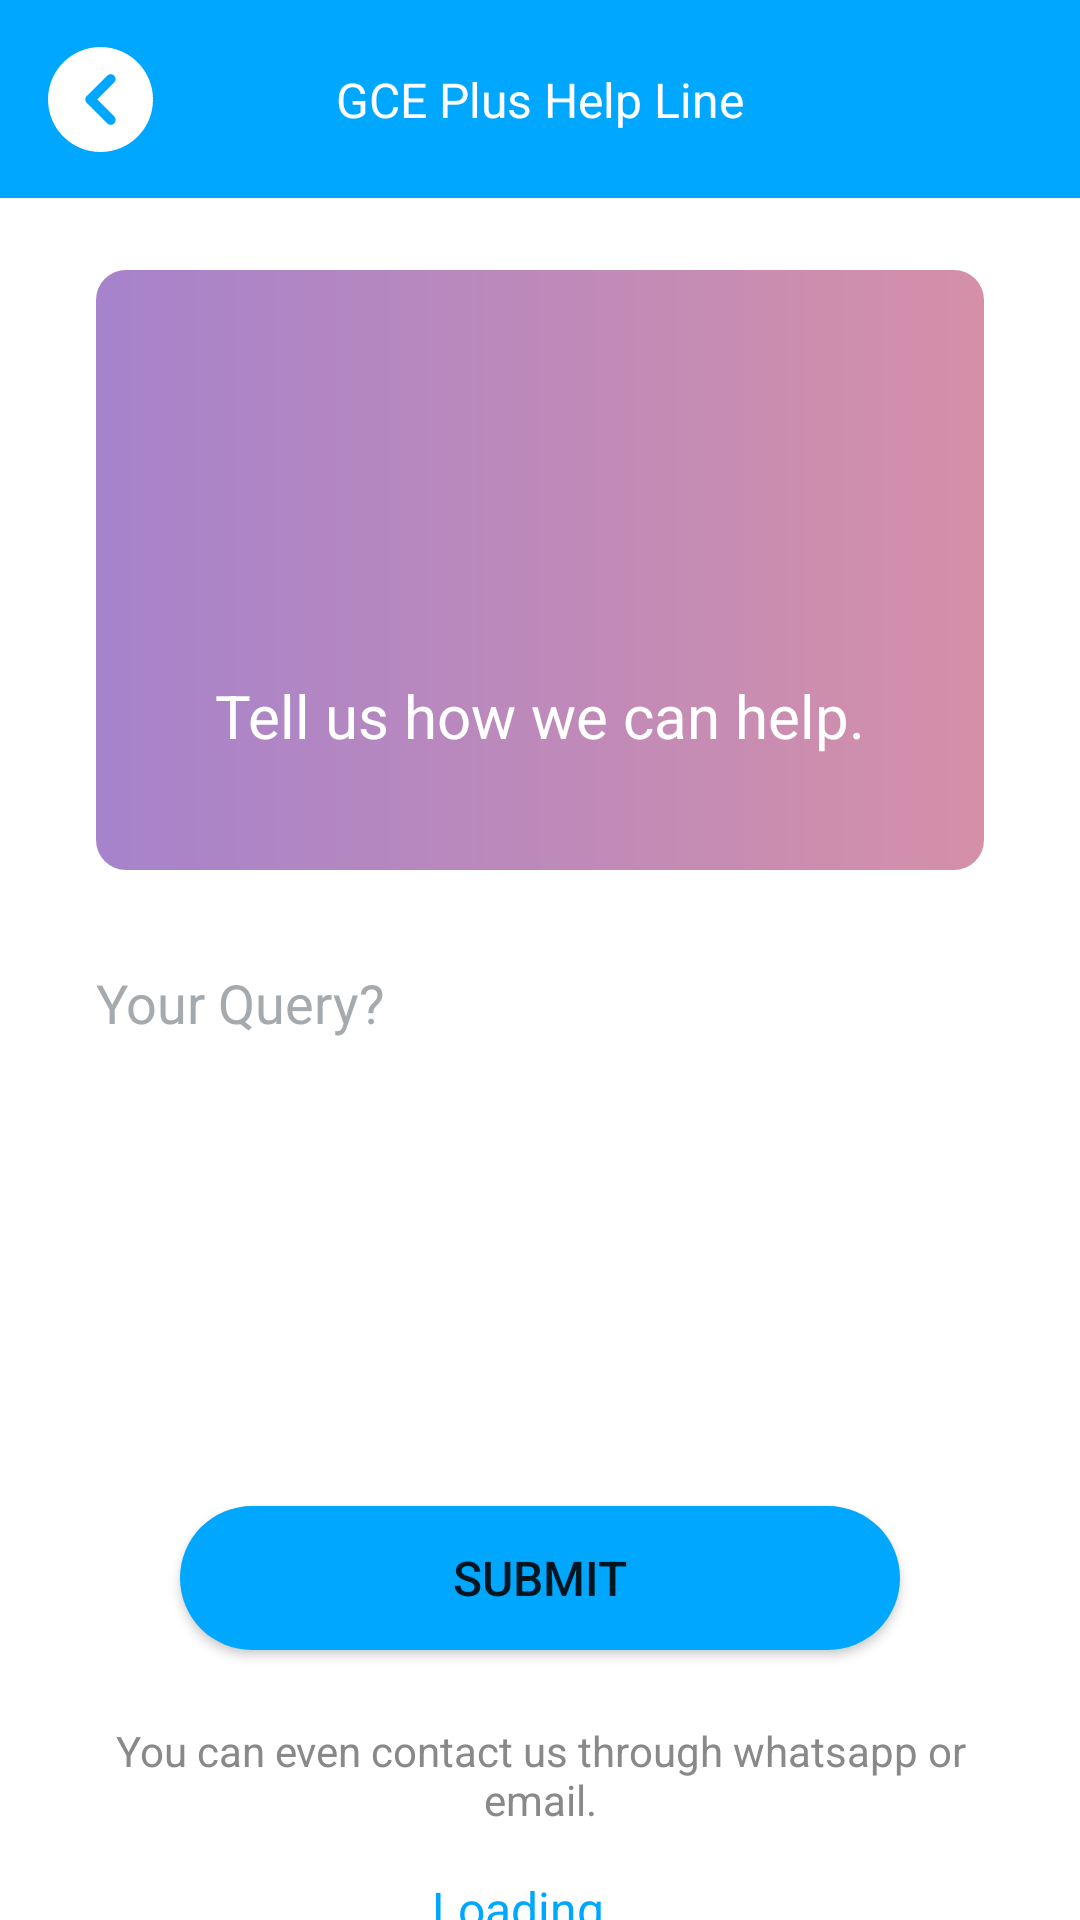

Where icons sit on this 1080x1920 app screen, as box(x1, y1, x2, y2):
back: box(48, 47, 153, 152)
